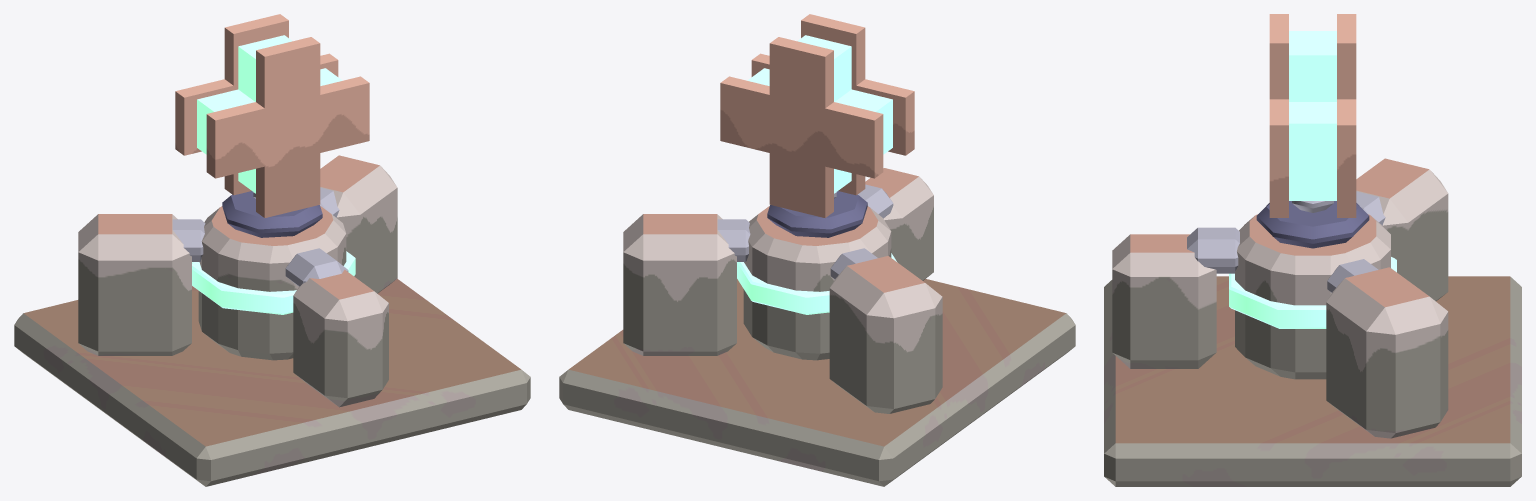
The model's file is R4X_RepairTurretDeployer_LOD1.glb.
3 views of the same model, side by side, from view 1: azimuth 30°, elevation 25°; view 2: azimuth 150°, elevation 25°; view 3: azimuth 270°, elevation 25° (orthographic). The views are drawn at different scales.
Visible parts, largest first — view 1: R4X_RepairTurretDeployer_LOD1; view 2: R4X_RepairTurretDeployer_LOD1; view 3: R4X_RepairTurretDeployer_LOD1.
Boxes of the visible parts, <box> form: R4X_RepairTurretDeployer_LOD1: <box>14,14,530,486</box>; R4X_RepairTurretDeployer_LOD1: <box>559,14,1075,486</box>; R4X_RepairTurretDeployer_LOD1: <box>1104,14,1521,486</box>.
Bounding box in the file's own units: 0.52 × 0.515 × 0.52.
5 materials, 4 textured.
